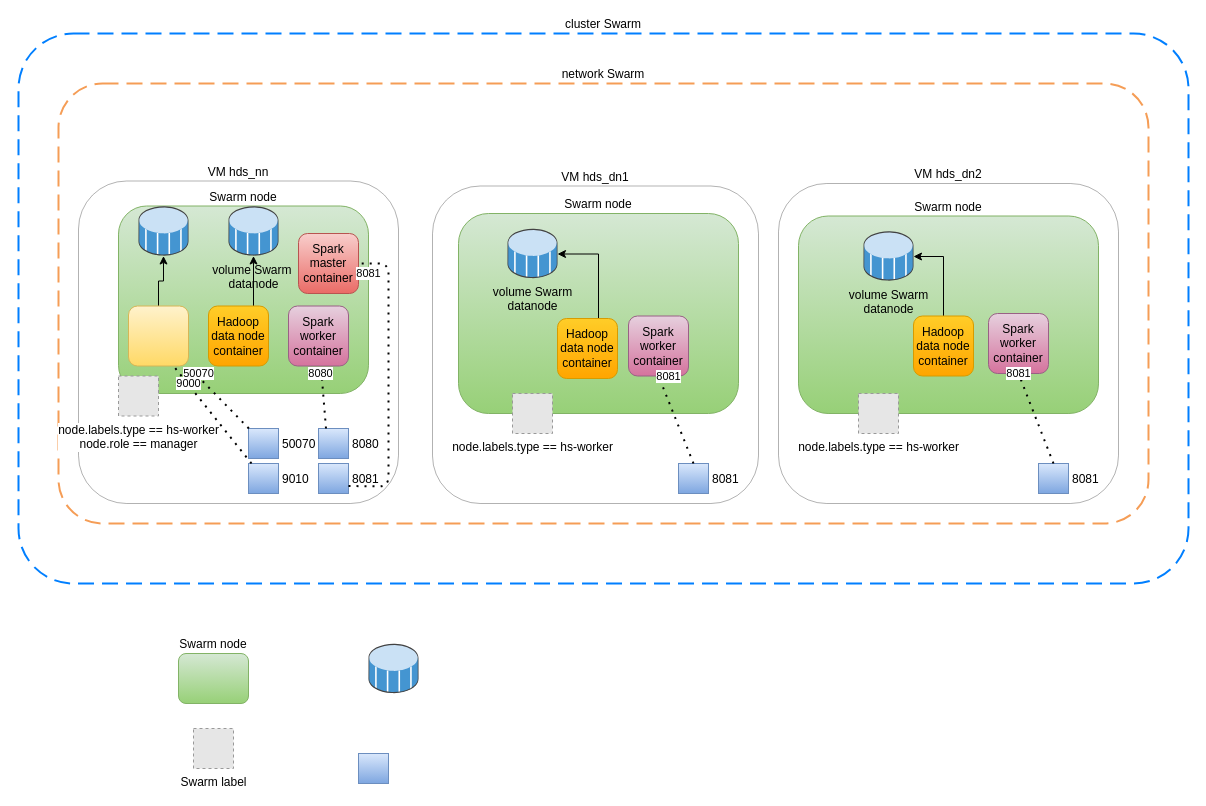
The diagram is 1206 pixels wide and 806 high, and some of its shapes have lost their labels. Grey dashed boxes stand in for pictures. Here are the shapes that lost their labels. From the top down, the centre of each, then its label:
At point 163,230: "volume Swarm namenode".
At point 158,335: "Hadoop name node container".
At point 393,668: "Swarm volume".
At point 373,768: "TCP port on vm".
